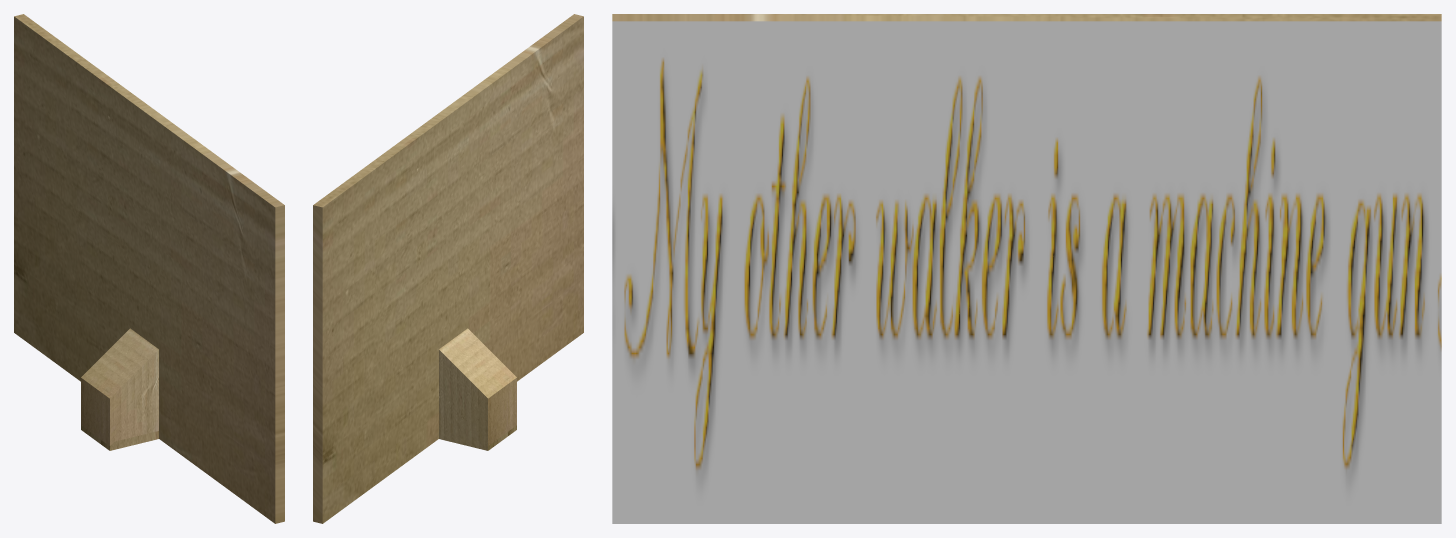
The model's file is machinegun.fbx.
3 renders of one model, left to right at view 1: azimuth 30°, elevation 25°; view 2: azimuth 150°, elevation 25°; view 3: azimuth 270°, elevation 25°, orthographic. The views are drawn at different scales.
Parts seen in each view (by area): view 1: pCube3; view 2: pCube3; view 3: pCube3.
Part boxes in pixels (<box>): pCube3: <box>14,14,284,523</box>; pCube3: <box>313,14,583,523</box>; pCube3: <box>612,14,1441,523</box>.
Bounding box in the file's own units: 0.8198 × 4.21 × 6.3.
